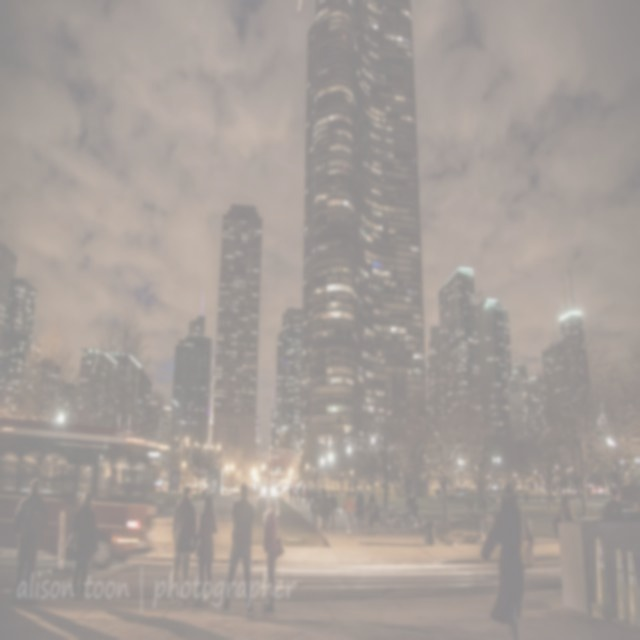pessoa: (478, 479, 534, 639), (8, 474, 50, 608), (221, 480, 257, 617), (68, 490, 100, 604), (170, 484, 198, 608), (260, 494, 286, 615), (191, 493, 218, 602), (104, 466, 135, 504), (552, 493, 574, 535), (601, 485, 625, 521), (342, 489, 356, 535), (404, 490, 420, 522), (316, 486, 327, 530), (366, 492, 376, 535), (310, 490, 320, 529), (328, 489, 338, 528), (372, 502, 382, 538), (355, 489, 365, 524), (455, 483, 468, 495), (54, 463, 62, 481), (292, 483, 298, 505), (288, 484, 294, 505), (306, 484, 312, 505), (308, 486, 314, 505), (298, 485, 303, 505), (304, 484, 308, 506), (300, 484, 304, 504), (200, 482, 204, 494)
